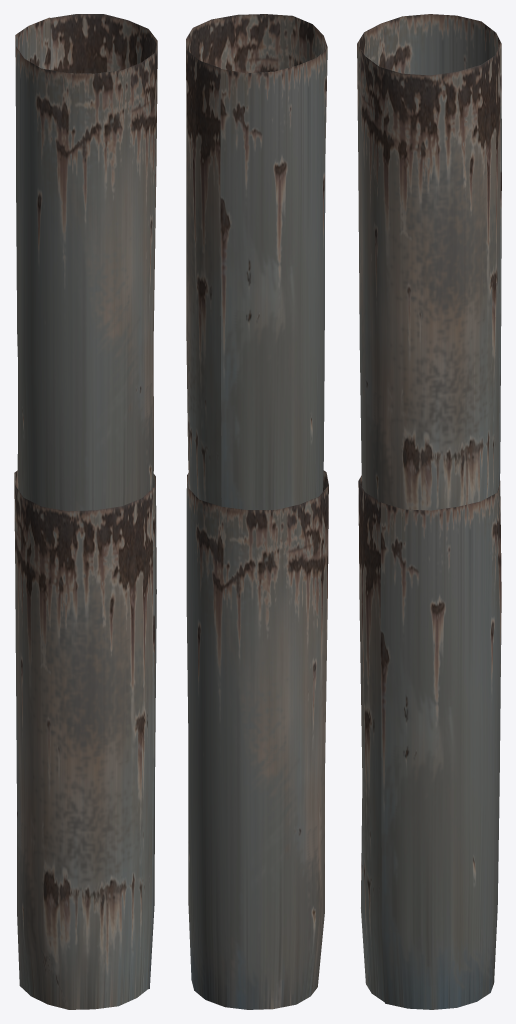
The model's file is !rustpipe_0.fbx.
3 renders of one model, left to right at view 1: azimuth 30°, elevation 25°; view 2: azimuth 150°, elevation 25°; view 3: azimuth 270°, elevation 25°, orthographic.
Visible parts, largest first — view 1: rustpipe_GEO1, rustpipe_GEO; view 2: rustpipe_GEO1, rustpipe_GEO; view 3: rustpipe_GEO1, rustpipe_GEO.
Part boxes in pixels (x1,y1,x2,y2): rustpipe_GEO1: [14, 470, 156, 1009]; rustpipe_GEO: [15, 14, 157, 510]; rustpipe_GEO1: [186, 470, 328, 1009]; rustpipe_GEO: [186, 14, 327, 509]; rustpipe_GEO1: [358, 475, 501, 1009]; rustpipe_GEO: [357, 14, 501, 510].
Size of the model in its own units: 20.98 by 150 by 20.88.
1 material, 1 textured.
